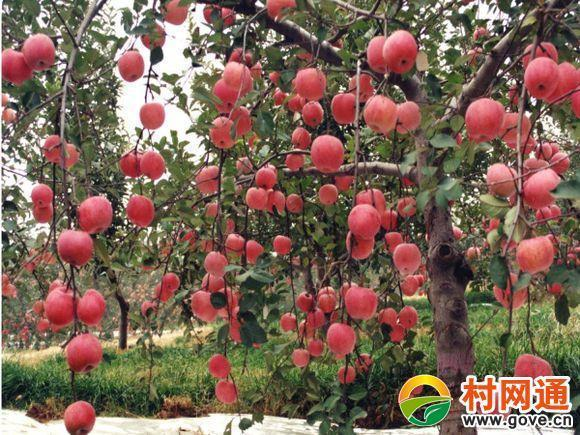apple: (464, 97, 503, 139), (524, 57, 563, 98), (383, 29, 417, 72), (523, 171, 562, 208), (21, 34, 55, 72), (517, 237, 553, 272), (65, 335, 101, 369), (58, 227, 93, 261), (311, 135, 344, 171), (78, 196, 112, 230), (294, 66, 328, 100), (486, 164, 519, 199), (365, 96, 396, 133), (1, 48, 32, 84), (63, 400, 95, 434), (44, 287, 73, 324), (348, 204, 380, 237), (192, 289, 223, 320), (346, 288, 377, 318), (327, 323, 358, 353), (394, 99, 422, 132), (77, 289, 104, 323), (521, 40, 556, 66), (393, 241, 422, 272), (222, 62, 252, 91), (331, 93, 360, 123), (212, 80, 242, 109), (208, 117, 238, 146), (127, 194, 153, 223), (118, 50, 143, 80), (141, 150, 164, 179), (207, 353, 231, 378), (139, 104, 164, 128), (141, 25, 165, 49), (302, 101, 323, 128), (215, 379, 238, 403), (162, 1, 187, 23), (266, 1, 296, 19), (246, 186, 268, 210), (255, 165, 278, 187), (30, 183, 51, 206), (121, 153, 141, 177), (318, 183, 337, 204)
